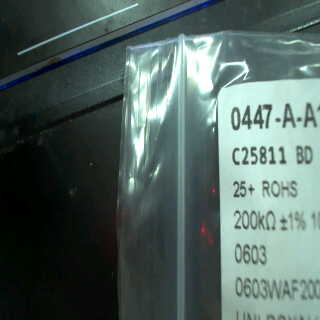200kR: (228, 204, 280, 237)
